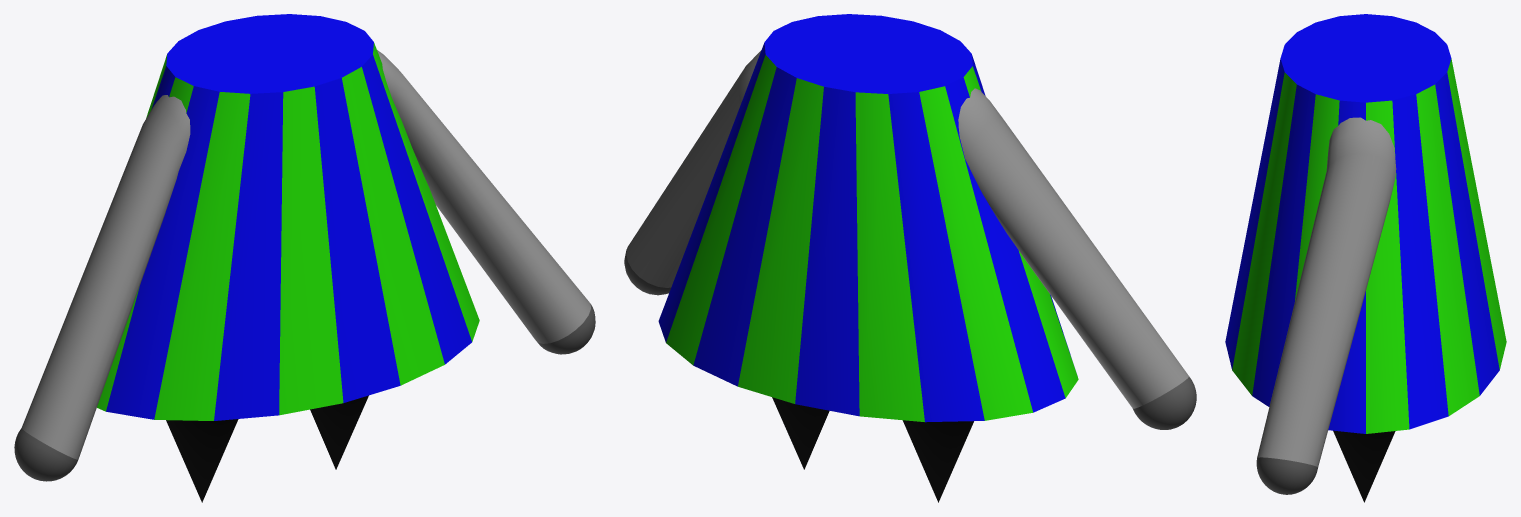
The model's file is Player_colored.fbx.
3 renders of one model, left to right at view 1: azimuth 30°, elevation 25°; view 2: azimuth 150°, elevation 25°; view 3: azimuth 270°, elevation 25°, orthographic. The views are drawn at different scales.
Parts seen in each view (by area): view 1: pCylinder1, pasted__pSphere1, pCone1, pasted__pCone1; view 2: pCylinder1, pasted__pSphere1, pCone1, pasted__pCone1; view 3: pCylinder1, pasted__pSphere1, pasted__pCone1.
Boxes of the visible parts, x1,y1,x2,y2 form: pCylinder1: [97, 14, 479, 420]; pasted__pSphere1: [14, 50, 595, 481]; pCone1: [166, 419, 238, 502]; pasted__pCone1: [310, 395, 368, 469]; pCylinder1: [658, 14, 1078, 422]; pasted__pSphere1: [624, 50, 1196, 429]; pCone1: [903, 420, 973, 502]; pasted__pCone1: [772, 397, 829, 469]; pCylinder1: [1225, 14, 1506, 433]; pasted__pSphere1: [1256, 117, 1396, 494]; pasted__pCone1: [1333, 430, 1395, 502].
Size of the model in its own units: 8.83 by 6.42 by 3.95.
